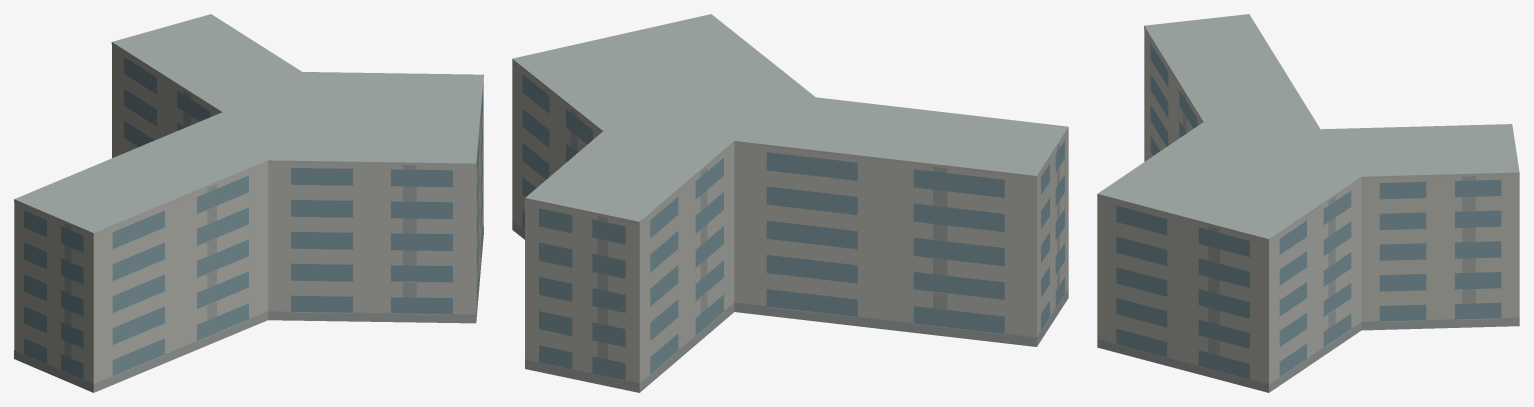
The model's file is residential-a9d8a838-63bf-42c1-8351-51d5609312e1.glb.
3 views of the same model, side by side, from view 1: azimuth 30°, elevation 25°; view 2: azimuth 150°, elevation 25°; view 3: azimuth 270°, elevation 25° (orthographic). The views are drawn at different scales.
Parts seen in each view (by area): view 1: residential-a9d8a838-63bf-42c1-8351-51d5609312e1.tmp; view 2: residential-a9d8a838-63bf-42c1-8351-51d5609312e1.tmp; view 3: residential-a9d8a838-63bf-42c1-8351-51d5609312e1.tmp.
Part boxes in pixels (box(x1,y1,x2,y2)): residential-a9d8a838-63bf-42c1-8351-51d5609312e1.tmp: box(14, 14, 483, 392); residential-a9d8a838-63bf-42c1-8351-51d5609312e1.tmp: box(512, 14, 1068, 392); residential-a9d8a838-63bf-42c1-8351-51d5609312e1.tmp: box(1097, 14, 1519, 392).
Size of the model in its own units: 47.92 by 15.25 by 37.97.
